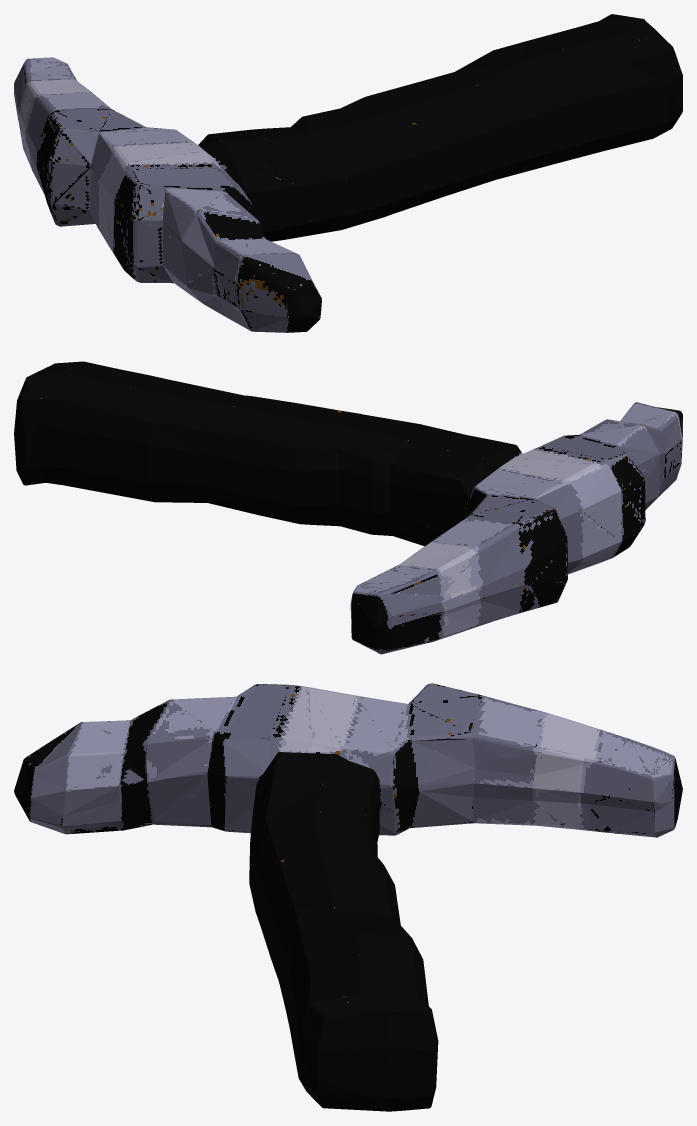
The picture shows the model from 3 angles, top to bottom: view 1: azimuth 30°, elevation 25°; view 2: azimuth 150°, elevation 25°; view 3: azimuth 270°, elevation 25°; orthographic projection. The views are drawn at different scales.
Visible parts, largest first — view 1: OBJ128; view 2: OBJ128; view 3: OBJ128.
Boxes of the visible parts, left/top/right/bottom form: OBJ128: left=14, top=14, right=682, bottom=332; OBJ128: left=14, top=361, right=682, bottom=654; OBJ128: left=14, top=683, right=682, bottom=1111.
Bounding box in the file's own units: 0.2622 × 0.048 × 0.2292.
1 material, 1 textured.
